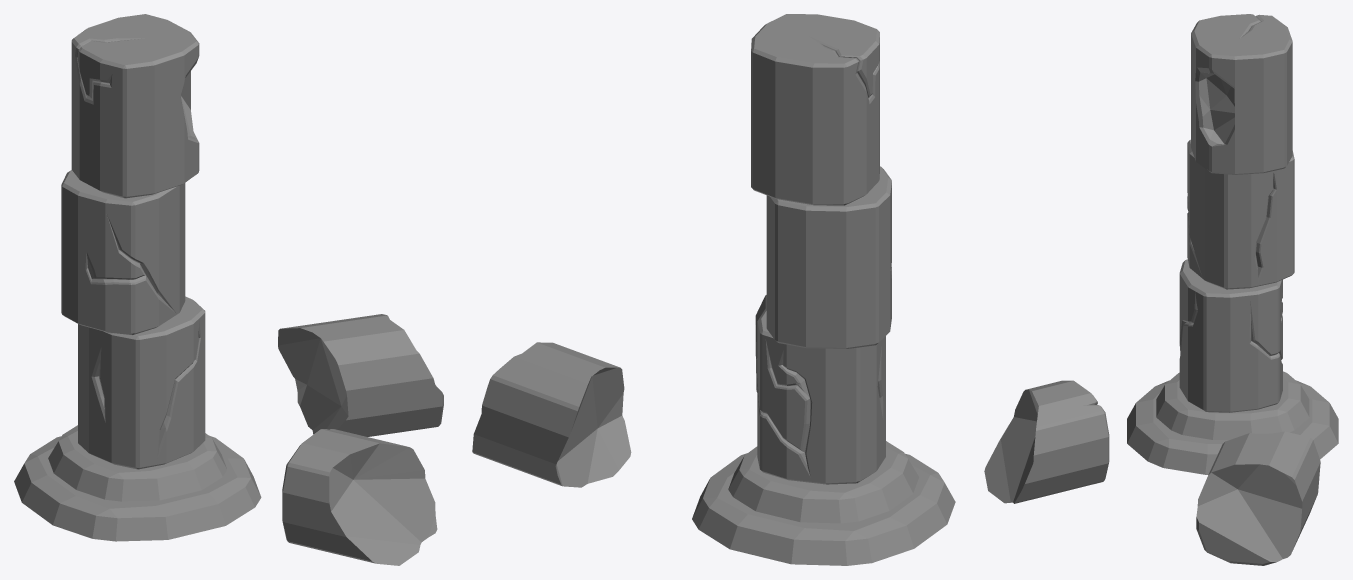
Rendered from GateDecoRight_01.fbx.
3 views of the same model, side by side, from view 1: azimuth 30°, elevation 25°; view 2: azimuth 150°, elevation 25°; view 3: azimuth 270°, elevation 25° (orthographic). The views are drawn at different scales.
Visible parts, largest first — view 1: GatesBlocks.006; view 2: GatesBlocks.006; view 3: GatesBlocks.006.
Boxes of the visible parts, box(x1,y1,x2,y2) form: GatesBlocks.006: box(14, 14, 443, 565); GatesBlocks.006: box(472, 14, 955, 565); GatesBlocks.006: box(984, 14, 1338, 565).
Bounding box in the file's own units: 267 × 287 × 229.
